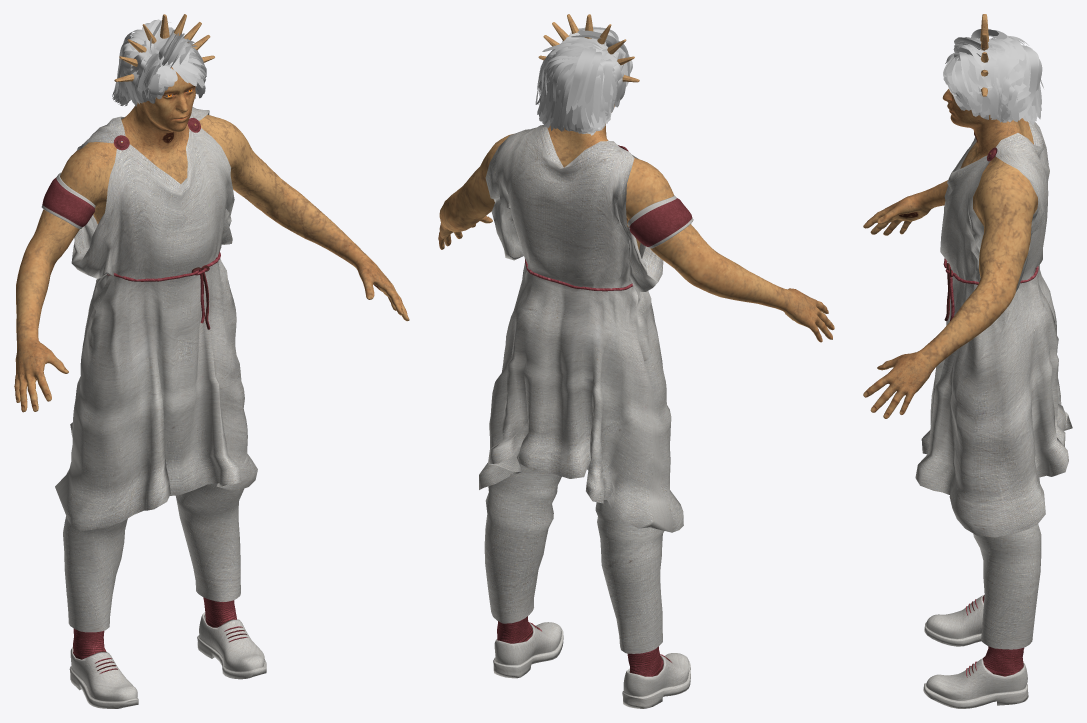
File: Helios.fbx
3 views of the same model, side by side, from view 1: azimuth 30°, elevation 25°; view 2: azimuth 150°, elevation 25°; view 3: azimuth 270°, elevation 25° (orthographic). The views are drawn at different scales.
Visible parts, largest first — view 1: Clothes, Body, Hair, ArmBand, HeadPiece; view 2: Clothes, Body, Hair, ArmBand, HeadPiece; view 3: Clothes, Body, Hair, HeadPiece.
Part boxes in pixels (<box>): Clothes: <box>55,107,266,708</box>; Body: <box>14,67,409,412</box>; Hair: <box>112,19,206,106</box>; ArmBand: <box>41,172,95,228</box>; HeadPiece: <box>114,14,214,81</box>; Clothes: <box>479,123,690,708</box>; Body: <box>438,104,834,342</box>; Hair: <box>535,26,632,135</box>; ArmBand: <box>627,195,693,248</box>; HeadPiece: <box>538,14,639,82</box>; Clothes: <box>915,120,1072,708</box>; Body: <box>863,89,1037,418</box>; Hair: <box>943,29,1043,124</box>; HeadPiece: <box>980,14,988,96</box>.
Size of the model in its own units: 1240 by 2034 by 595.
